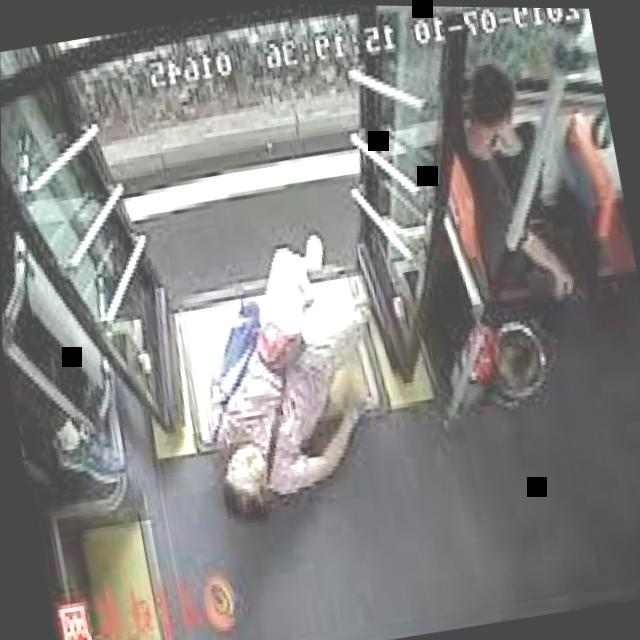Fall-Detected: (154, 187, 401, 535)
